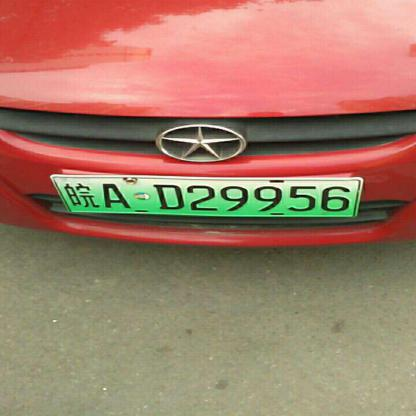lp: (52, 177, 72, 215)
